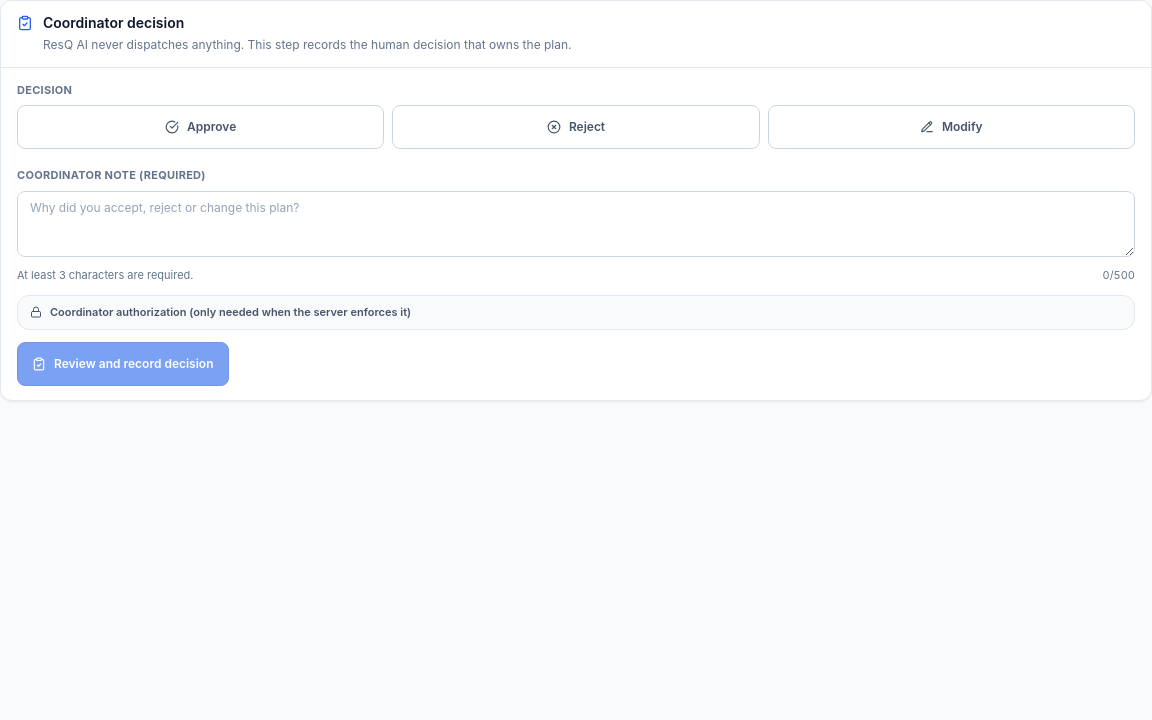
Scenario: Coordinator decision panel › surfaces an authorization failure without claiming the decision was recorded
The image size is (1152, 720).
Click the radio button labelled "Approve" at (201, 126), box [17,104,384,148]
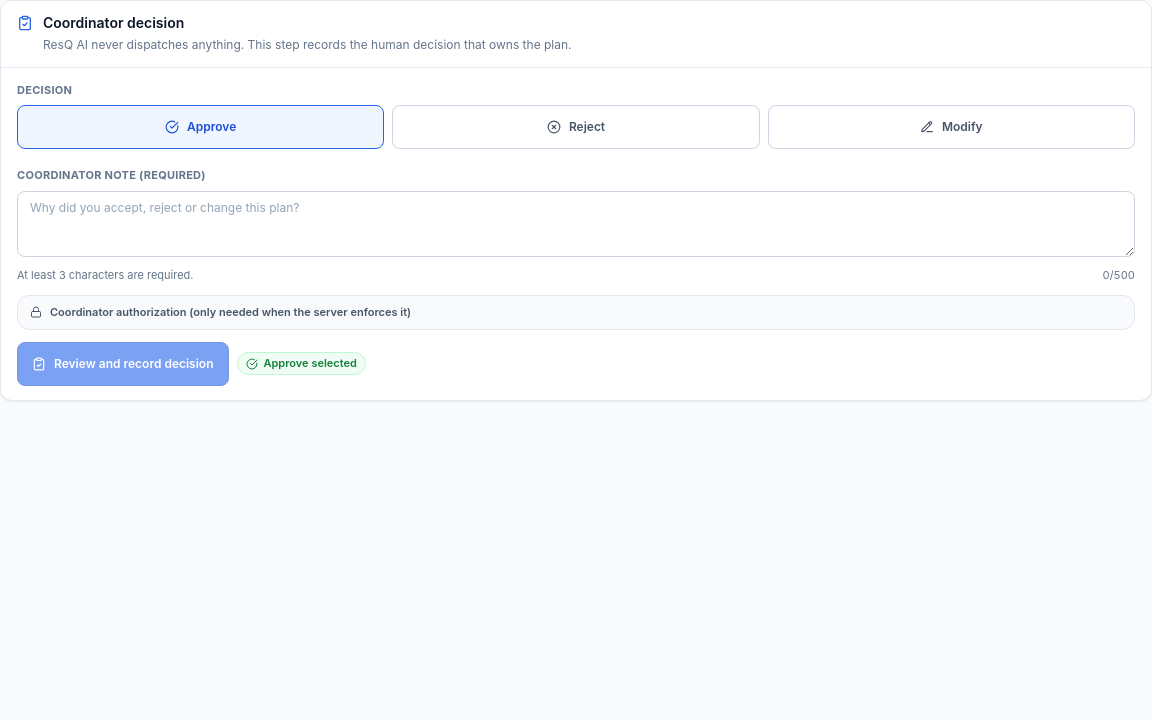
Type "Fastest plan accepted for the inner city." into the text box labelled "Coordinator note (required)" at (576, 224), box [17,190,1135,256]
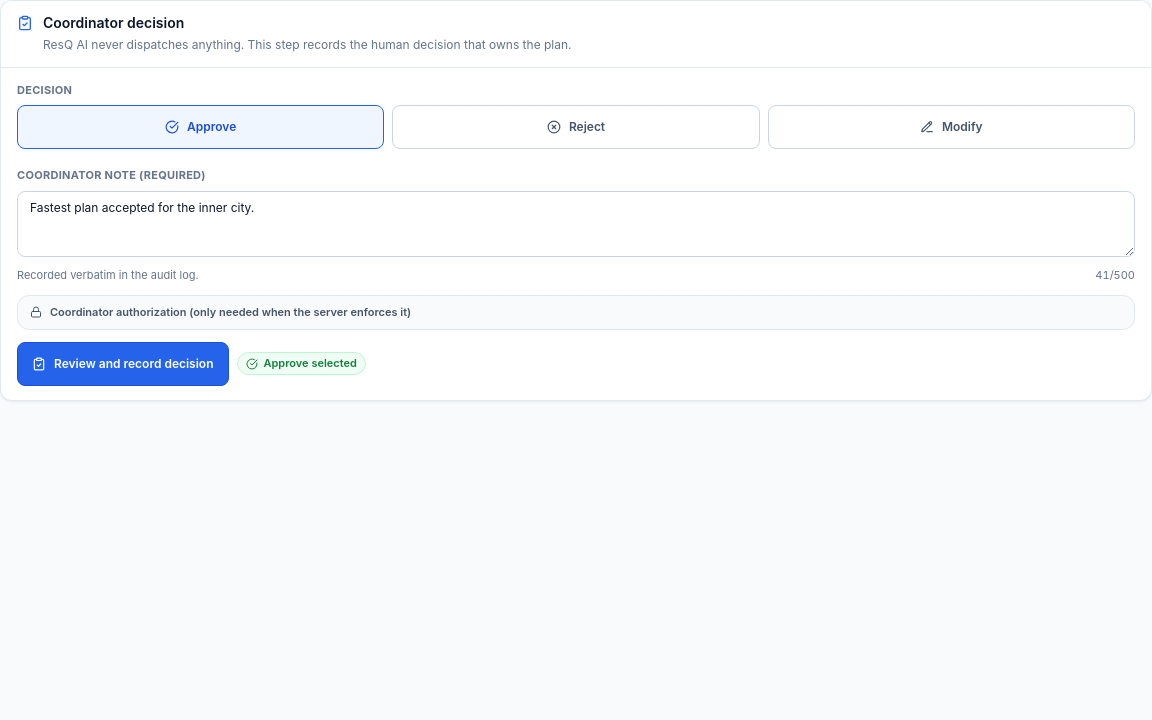
Click the button "Review and record decision" at (123, 364), box [17,342,228,386]
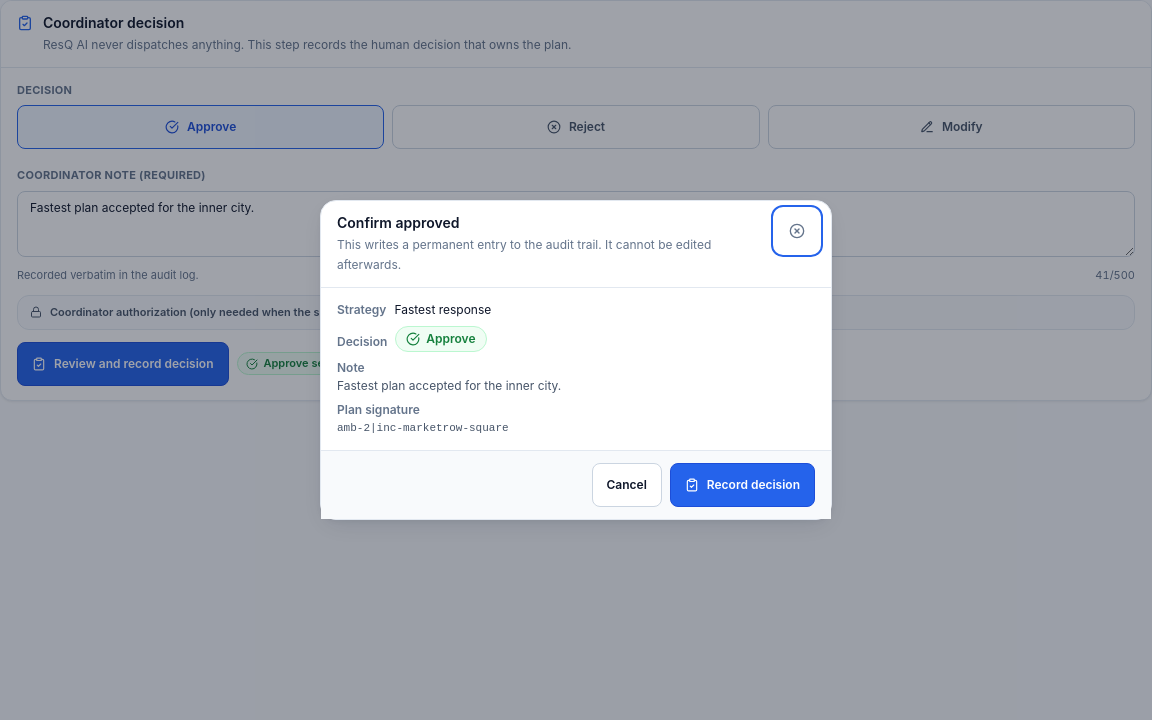
Click the button "Record decision" at (742, 485), box [670,463,815,507]
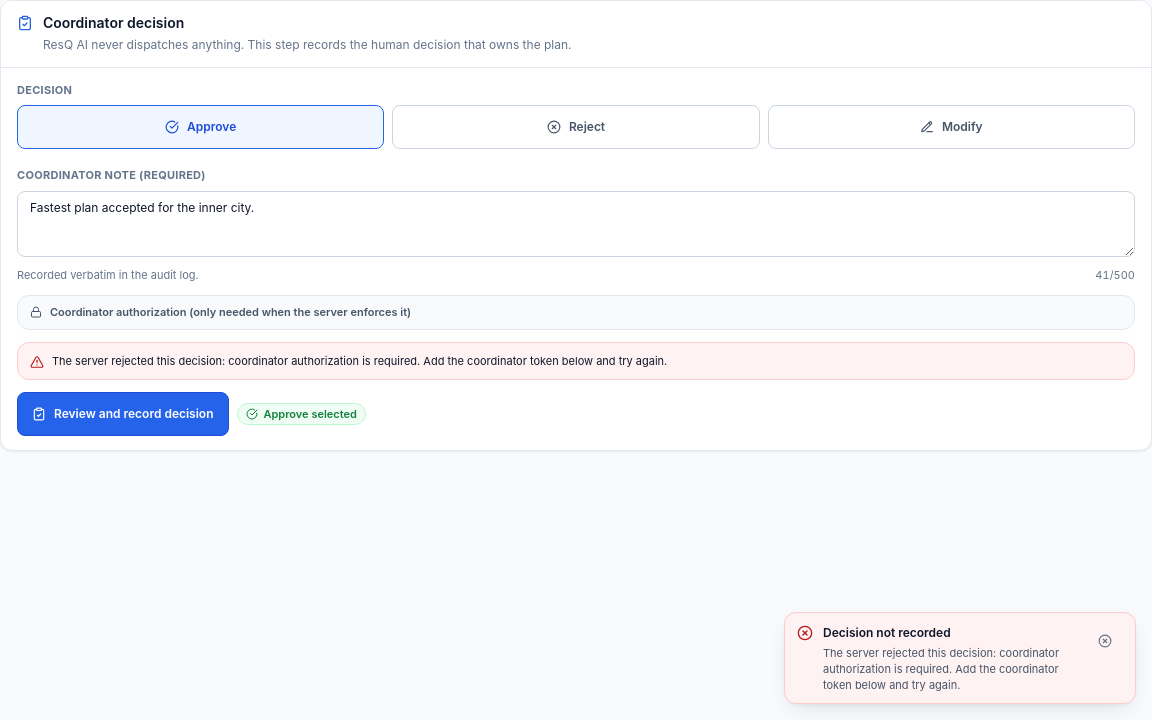
Expected: the text "authorization is required" below "Recorded verbatim in the audit log." is shown, [52,354,667,368]
